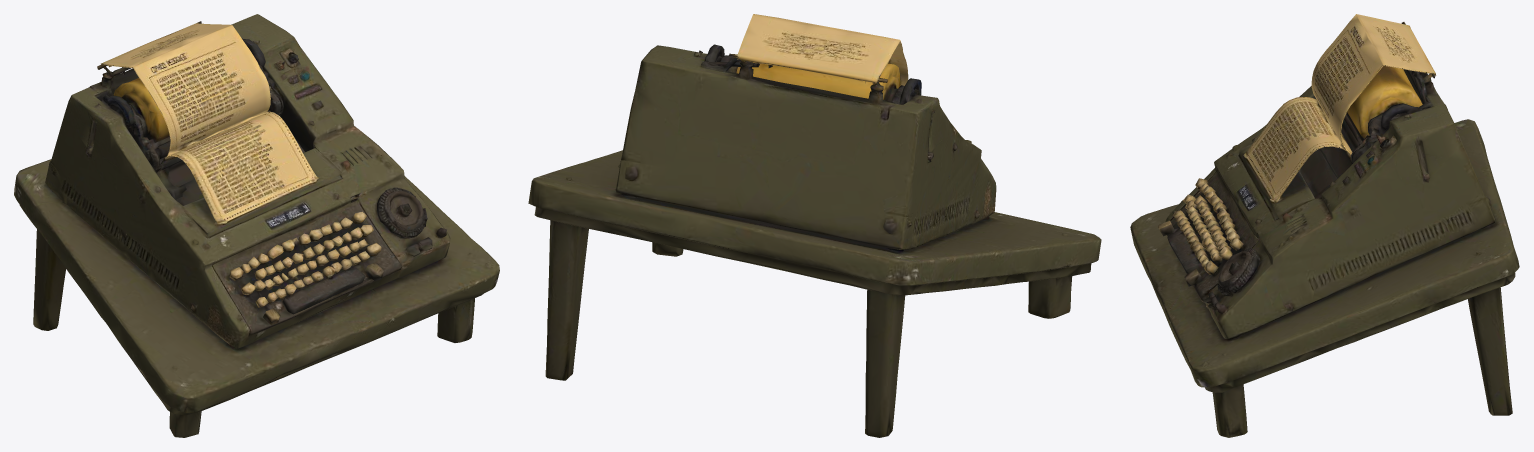
Rendered from prop_s2_teletype_desk.glb.
3 renders of one model, left to right at view 1: azimuth 30°, elevation 25°; view 2: azimuth 150°, elevation 25°; view 3: azimuth 270°, elevation 25°, orthographic. The views are drawn at different scales.
Parts seen in each view (by area): view 1: tripo_node_4adcc566-add7-4132-ae50-b4aa2a444ccd; view 2: tripo_node_4adcc566-add7-4132-ae50-b4aa2a444ccd; view 3: tripo_node_4adcc566-add7-4132-ae50-b4aa2a444ccd.
Boxes of the visible parts, x1,y1,x2,y2 form: tripo_node_4adcc566-add7-4132-ae50-b4aa2a444ccd: (14,14,499,437); tripo_node_4adcc566-add7-4132-ae50-b4aa2a444ccd: (528,14,1101,437); tripo_node_4adcc566-add7-4132-ae50-b4aa2a444ccd: (1130,14,1519,437).
Bounding box in the file's own units: 0.99 × 0.7695 × 0.9189.
1 material, 1 textured.
